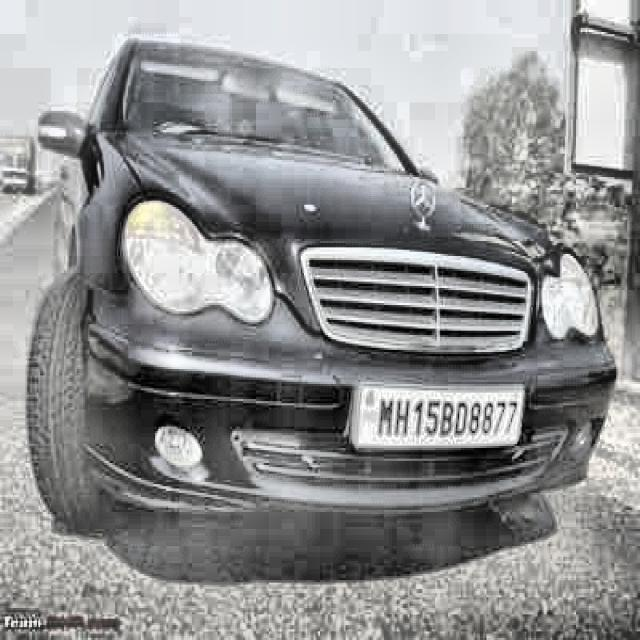license_plate: (357, 386, 522, 452)
